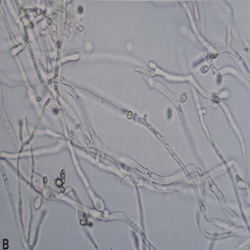Yeast: (75, 77, 213, 187), (139, 52, 250, 159), (30, 169, 157, 250), (1, 1, 93, 91), (169, 1, 250, 84), (56, 107, 137, 188), (2, 82, 74, 163), (1, 150, 54, 250), (139, 158, 250, 202), (191, 188, 250, 247)
